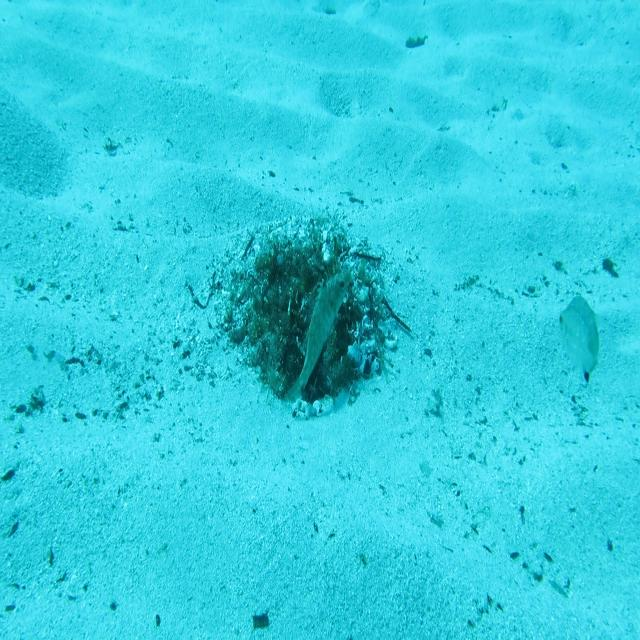LF: (282, 264, 354, 409)
core_nest: (278, 256, 325, 292)
female: (556, 291, 604, 386)
nest: (206, 202, 404, 432)
vegetation: (250, 610, 271, 632), (600, 254, 618, 279), (405, 34, 427, 50)
